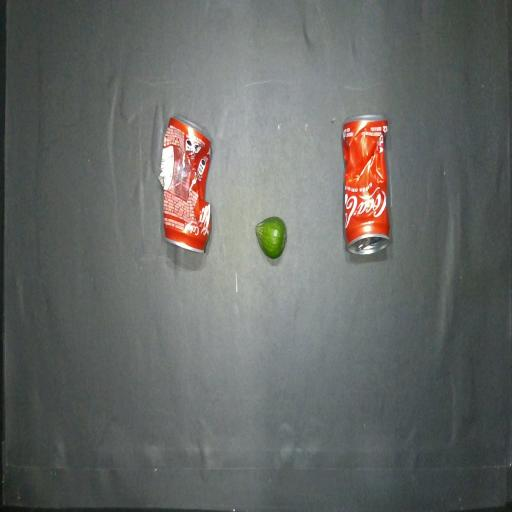higo: (255, 217, 287, 259)
lata_defectuoso: (159, 116, 211, 251), (342, 115, 389, 254)
